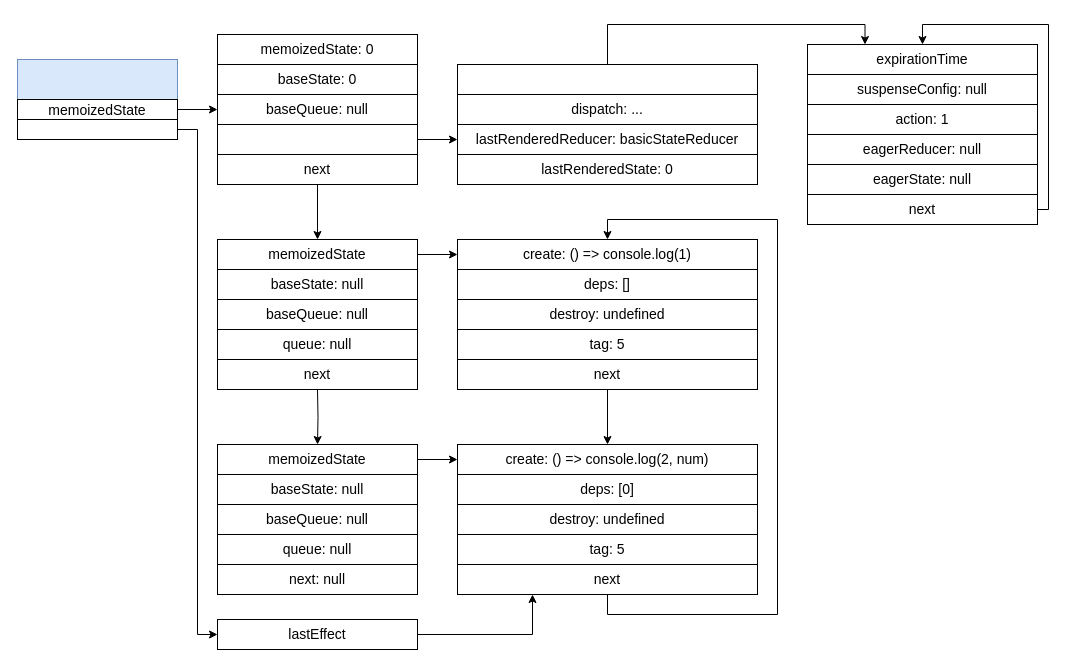
Image size: 1074x667. Some labels were removed from this diagram. Here are the shapes that lost their labels. From the top down, the box of each, then its label:
(16, 58, 178, 100): App
(456, 64, 758, 94): pending
(16, 118, 178, 140): updateQueue
(216, 124, 418, 154): queue
